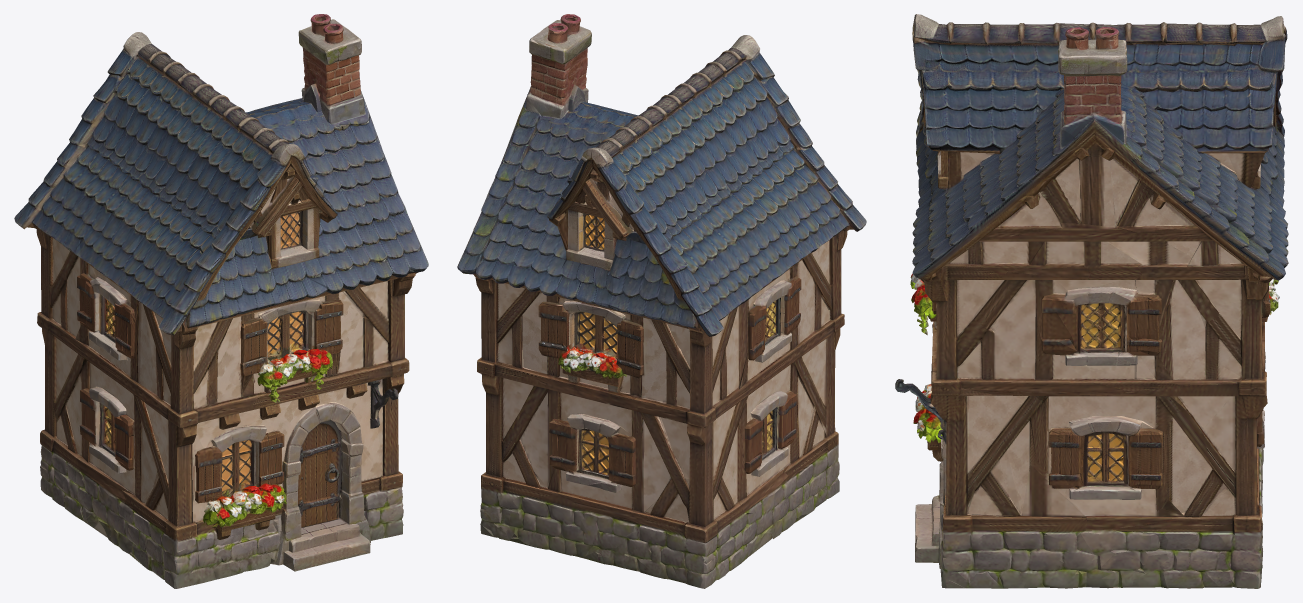
File: townhouse-a.glb
3 renders of one model, left to right at view 1: azimuth 30°, elevation 25°; view 2: azimuth 150°, elevation 25°; view 3: azimuth 270°, elevation 25°, orthographic. The views are drawn at different scales.
Bounding box in the file's own units: 1.13 × 1.9 × 1.23.
1 material, 1 textured.
